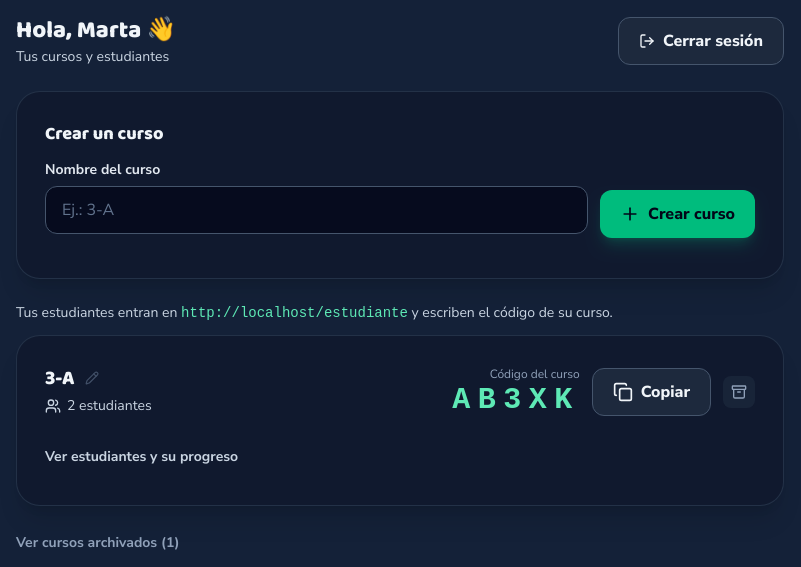
Test: TeacherPanel con datos › archivar un curso lo mueve a la sección de archivados
Check: the text "Tus cursos y estudiantes" is shown, box [16,47,176,67]
Click the button named "Archivar 3-A" at (739, 392), box [723,376,755,408]
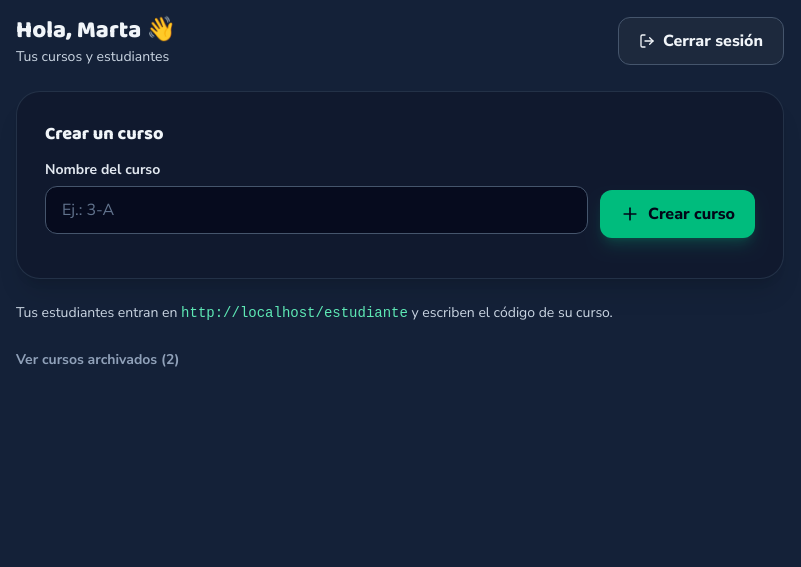
Check: the button "Ver cursos archivados (2)" is shown, box [16,350,179,370]
